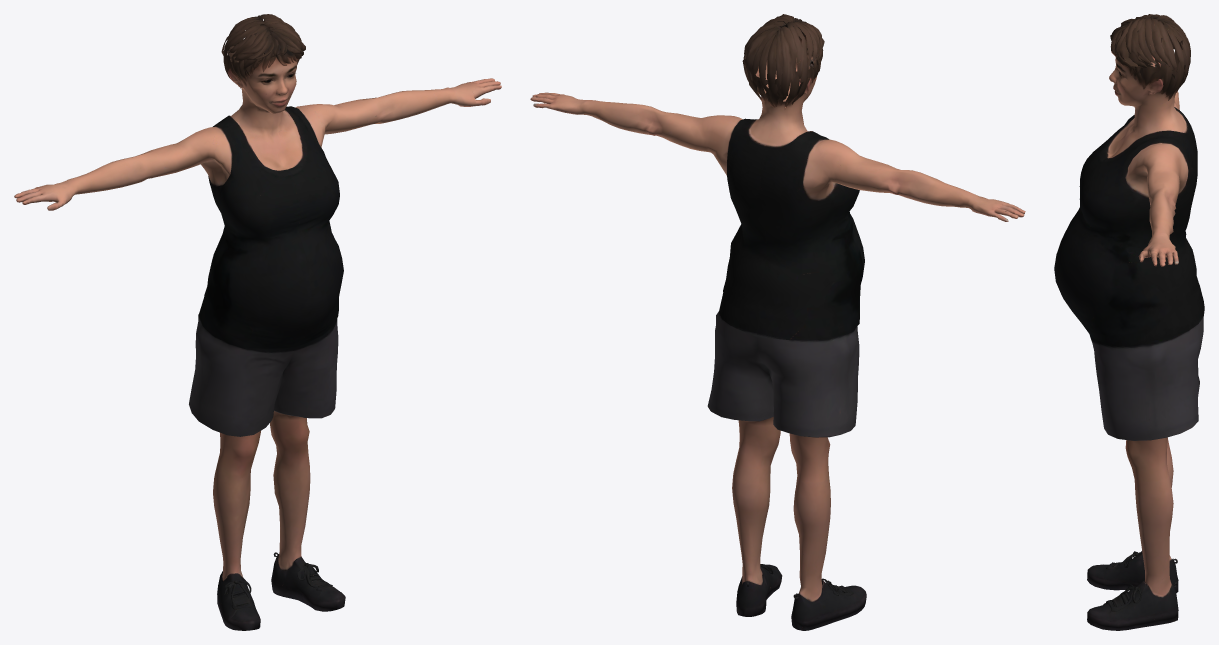
Rendered from berem.obj.
The picture shows the model from 3 angles, left to right: view 1: azimuth 30°, elevation 25°; view 2: azimuth 150°, elevation 25°; view 3: azimuth 270°, elevation 25°; orthographic projection.
Visible parts, largest first — view 1: mesh_0; view 2: mesh_0; view 3: mesh_0.
Part boxes in pixels (x1,y1,x2,y2): mesh_0: (14, 14, 501, 630); mesh_0: (530, 14, 1025, 630); mesh_0: (1054, 14, 1204, 630).
Bounding box in the file's own units: 826 × 950 × 221.
Materials: 1 (1 with a texture image).
